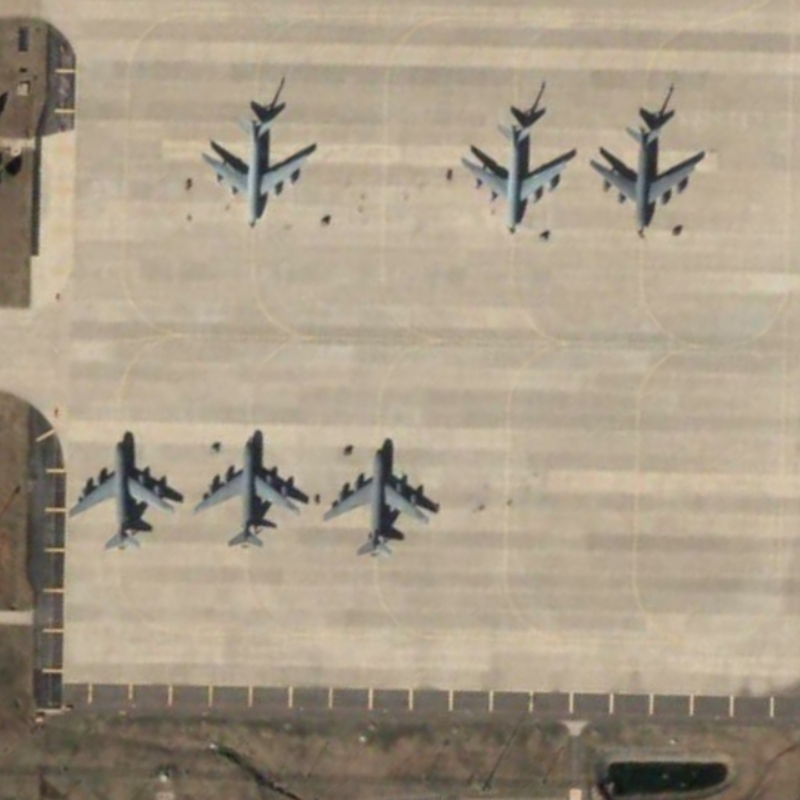A14: (186, 103, 315, 229), (450, 111, 576, 238), (61, 428, 180, 552), (317, 439, 436, 561), (189, 429, 304, 554), (589, 117, 706, 237)
